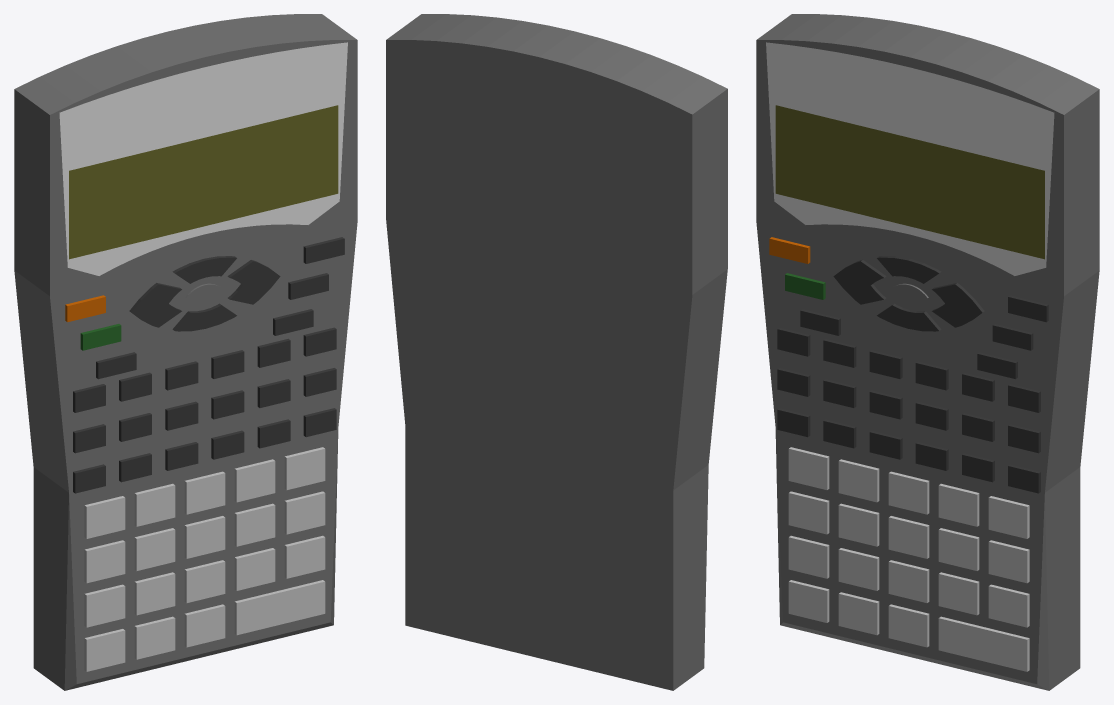
3 renders of one model, left to right at view 1: azimuth 30°, elevation 25°; view 2: azimuth 150°, elevation 25°; view 3: azimuth 330°, elevation 25°, orthographic.
Visible parts, largest first — view 1: calculator el wh med; view 2: calculator el wh med; view 3: calculator el wh med.
Boxes of the visible parts, x1,y1,x2,y2 form: calculator el wh med: (14, 14, 357, 690); calculator el wh med: (386, 14, 727, 690); calculator el wh med: (756, 14, 1099, 690).
Bounding box in the file's own units: 3.15 × 5.91 × 0.6693.
